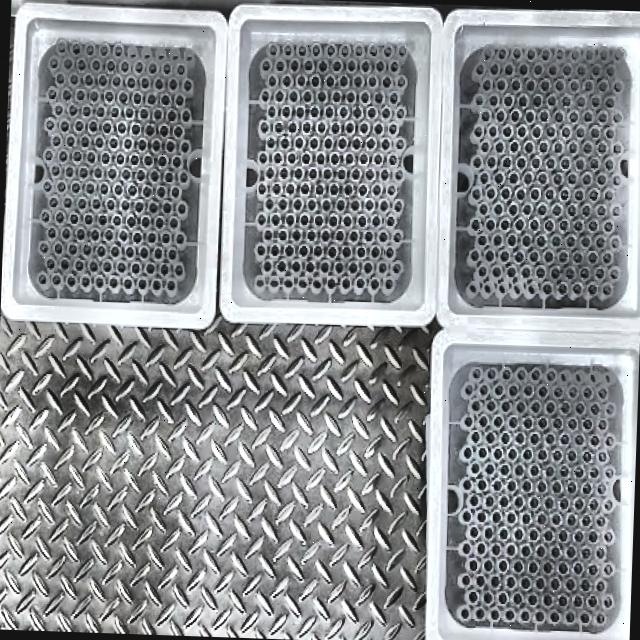vial: (381, 276, 395, 293), (602, 497, 616, 512), (488, 543, 502, 557), (461, 382, 474, 397), (466, 525, 479, 540), (549, 543, 561, 559), (355, 275, 366, 292), (469, 366, 482, 380), (460, 445, 473, 459), (512, 463, 525, 476), (90, 56, 103, 69), (604, 528, 615, 543), (596, 610, 607, 625), (124, 277, 134, 293), (543, 402, 555, 415), (552, 448, 564, 461), (256, 242, 268, 255), (311, 277, 323, 290), (469, 461, 480, 475), (498, 526, 509, 540), (603, 564, 614, 578), (282, 41, 293, 55), (387, 121, 398, 135), (369, 277, 380, 291), (139, 277, 148, 294), (514, 494, 524, 509), (461, 541, 471, 556), (460, 605, 470, 620), (485, 399, 497, 411), (520, 543, 532, 555), (571, 563, 583, 575), (486, 367, 497, 380), (523, 416, 534, 429), (477, 478, 488, 491), (476, 511, 487, 524), (491, 510, 502, 523), (541, 528, 554, 539), (165, 139, 176, 152), (73, 259, 84, 272), (256, 183, 267, 196), (304, 259, 315, 272), (494, 383, 504, 397), (552, 513, 562, 527), (475, 607, 485, 621), (566, 612, 576, 626), (394, 199, 404, 213), (341, 276, 351, 290), (491, 608, 500, 623), (587, 498, 598, 510), (483, 559, 494, 571), (80, 275, 91, 287), (275, 59, 286, 71), (366, 75, 377, 87), (366, 105, 377, 117), (395, 137, 406, 149), (391, 260, 402, 272), (298, 276, 309, 288), (478, 414, 488, 427), (463, 479, 473, 492), (484, 493, 494, 506), (476, 542, 486, 555), (596, 546, 606, 559), (550, 576, 560, 589), (535, 610, 545, 623), (105, 58, 115, 71), (102, 120, 112, 133), (135, 199, 145, 212), (176, 200, 186, 213), (141, 214, 151, 227), (159, 262, 169, 275), (174, 262, 184, 275), (383, 43, 393, 56), (367, 136, 377, 149), (335, 229, 345, 242), (393, 229, 403, 242), (348, 260, 358, 273), (149, 58, 157, 74), (271, 275, 280, 289), (479, 384, 490, 395), (508, 384, 519, 395), (485, 431, 496, 442), (552, 417, 563, 428), (467, 560, 478, 571), (603, 596, 614, 607), (175, 61, 186, 72), (367, 43, 378, 54), (330, 122, 341, 133), (358, 215, 369, 226), (256, 213, 267, 224), (502, 367, 512, 379), (538, 385, 548, 397), (568, 417, 578, 429), (500, 462, 510, 474), (530, 465, 540, 477), (575, 465, 585, 477), (537, 480, 547, 492), (499, 495, 509, 507), (529, 496, 539, 508), (545, 498, 555, 510), (559, 497, 569, 509), (514, 561, 524, 573), (490, 574, 500, 586), (88, 118, 98, 130), (86, 182, 96, 194), (312, 42, 322, 54), (396, 76, 406, 88), (353, 75, 363, 87), (374, 90, 384, 102), (394, 168, 404, 180), (371, 182, 381, 194), (335, 197, 345, 209), (371, 215, 381, 227), (370, 246, 380, 258), (341, 245, 351, 257), (336, 261, 346, 273), (501, 431, 510, 444), (507, 543, 516, 556), (476, 575, 485, 588), (137, 135, 146, 148), (154, 216, 163, 229), (119, 228, 128, 241), (37, 272, 46, 285), (354, 42, 363, 55), (397, 106, 406, 119), (311, 134, 320, 147), (352, 136, 361, 149), (284, 276, 293, 289), (342, 43, 350, 57), (524, 383, 534, 394), (544, 433, 555, 443), (478, 447, 488, 458), (485, 462, 495, 473), (491, 478, 502, 488), (469, 494, 480, 504), (574, 498, 584, 509), (567, 514, 577, 525), (596, 515, 607, 525), (573, 530, 583, 541), (483, 526, 493, 537), (596, 581, 606, 592), (520, 611, 530, 622), (161, 62, 171, 73), (119, 59, 129, 70), (166, 78, 177, 88), (118, 119, 129, 129), (111, 213, 121, 224), (71, 42, 81, 53), (344, 121, 354, 132), (357, 182, 367, 193), (379, 199, 389, 210), (363, 261, 373, 272), (256, 277, 266, 288), (583, 450, 592, 462), (598, 451, 607, 463), (559, 530, 568, 542), (581, 547, 590, 559), (499, 559, 508, 571), (567, 579, 576, 591), (543, 593, 552, 605), (484, 591, 493, 603), (74, 119, 83, 131), (159, 124, 168, 136), (181, 141, 190, 153), (121, 167, 130, 179), (137, 169, 146, 181), (143, 184, 152, 196), (114, 183, 123, 195), (57, 179, 66, 191), (41, 210, 50, 222), (104, 230, 113, 242), (167, 278, 176, 290), (291, 58, 300, 70), (319, 59, 328, 71), (326, 74, 335, 86), (289, 89, 298, 101), (374, 123, 383, 135), (359, 152, 368, 164), (258, 150, 267, 162), (265, 167, 274, 179), (281, 166, 290, 178), (324, 167, 333, 179), (388, 184, 397, 196), (301, 181, 310, 193), (342, 214, 351, 226), (279, 228, 288, 240), (285, 243, 294, 255), (307, 229, 316, 241), (350, 229, 359, 241), (379, 230, 388, 242), (378, 261, 387, 273), (561, 401, 569, 414), (507, 609, 515, 622), (365, 228, 373, 241), (531, 368, 541, 378), (531, 401, 541, 411), (516, 401, 526, 411), (493, 415, 503, 425), (471, 430, 481, 440), (575, 434, 585, 444), (583, 418, 593, 428), (530, 432, 540, 442), (522, 448, 532, 458), (589, 467, 599, 477), (582, 482, 592, 492), (596, 484, 606, 494), (567, 481, 577, 491), (463, 509, 473, 519), (566, 545, 576, 555), (528, 562, 538, 572), (581, 580, 591, 590), (51, 133, 61, 143), (86, 151, 96, 161), (110, 245, 120, 255), (152, 280, 162, 290), (279, 199, 289, 209), (327, 246, 337, 256), (547, 369, 556, 380), (517, 368, 526, 379), (508, 417, 517, 428), (507, 512, 516, 523), (522, 511, 531, 522), (537, 513, 546, 524), (515, 527, 524, 538), (589, 564, 598, 575), (559, 563, 568, 574), (536, 577, 545, 588), (558, 596, 567, 607), (499, 592, 508, 603), (581, 613, 590, 624), (134, 61, 143, 72), (181, 110, 190, 121), (66, 134, 75, 145), (174, 124, 183, 135), (150, 170, 159, 181), (128, 184, 137, 195), (49, 196, 58, 207), (141, 245, 150, 256), (126, 246, 135, 257), (52, 242, 61, 253), (52, 273, 61, 284), (145, 263, 154, 274), (334, 60, 343, 71), (312, 73, 321, 84), (275, 89, 284, 100), (382, 106, 391, 117), (311, 105, 320, 116), (302, 121, 311, 132), (359, 123, 368, 134), (266, 136, 275, 147), (381, 137, 390, 148), (373, 153, 382, 164), (302, 152, 311, 163), (286, 214, 295, 225), (356, 246, 365, 257), (300, 244, 309, 255), (292, 260, 301, 271), (522, 576, 530, 588), (551, 613, 559, 625), (125, 106, 133, 118), (123, 137, 131, 149), (101, 151, 109, 163), (176, 231, 184, 243), (39, 241, 47, 253), (298, 43, 306, 55), (260, 88, 268, 100), (332, 89, 340, 101), (347, 89, 355, 101), (360, 88, 368, 100), (289, 120, 297, 132), (340, 135, 348, 147), (317, 152, 325, 164), (273, 182, 281, 194), (279, 259, 287, 271), (502, 398, 511, 408), (465, 415, 474, 425), (560, 433, 569, 443), (508, 448, 517, 458), (493, 447, 502, 457), (538, 449, 547, 459), (522, 480, 531, 490), (589, 531, 598, 541), (543, 562, 552, 572), (461, 574, 470, 584), (588, 597, 597, 607), (528, 595, 537, 605), (469, 591, 478, 601), (167, 109, 177, 118), (141, 107, 150, 117), (81, 136, 90, 146), (145, 123, 154, 133), (144, 155, 153, 165), (66, 165, 75, 175), (80, 165, 89, 175), (109, 168, 118, 178), (165, 172, 174, 182), (157, 186, 166, 196), (108, 198, 117, 208), (163, 201, 172, 211), (171, 216, 180, 226), (70, 213, 79, 223), (56, 209, 65, 219), (47, 227, 57, 236), (133, 233, 142, 243), (60, 258, 69, 268), (132, 261, 141, 271), (346, 60, 355, 70), (376, 61, 385, 71), (390, 61, 399, 71), (383, 76, 392, 86), (260, 119, 269, 129), (274, 121, 283, 131), (392, 152, 401, 162), (329, 153, 338, 163), (286, 182, 295, 192), (264, 198, 273, 208), (315, 215, 324, 225), (183, 79, 191, 90), (141, 76, 149, 87), (161, 93, 169, 104), (112, 106, 120, 117), (109, 137, 117, 148), (79, 197, 87, 208), (127, 215, 135, 226), (98, 214, 106, 225), (62, 226, 70, 237), (399, 44, 407, 55), (269, 43, 277, 54), (340, 73, 348, 84), (297, 75, 305, 86), (268, 74, 276, 85), (296, 106, 304, 117), (267, 105, 275, 116), (380, 168, 388, 179), (294, 198, 302, 209), (271, 243, 279, 254), (328, 276, 336, 287), (176, 93, 183, 105), (163, 232, 170, 244), (69, 242, 76, 254), (284, 74, 291, 86), (324, 136, 331, 148), (390, 214, 397, 226), (546, 465, 555, 474), (93, 168, 102, 177), (361, 61, 370, 70), (539, 418, 547, 428), (568, 450, 576, 460), (561, 464, 569, 474), (552, 481, 562, 489), (508, 481, 516, 491), (582, 514, 590, 524), (507, 577, 515, 587), (514, 592, 522, 602), (154, 78, 162, 88), (127, 77, 135, 87), (153, 109, 161, 119), (159, 155, 167, 165), (130, 154, 138, 164), (73, 150, 81, 160), (61, 148, 69, 158), (44, 149, 52, 159), (72, 182, 80, 192), (121, 200, 129, 210), (149, 232, 157, 242), (97, 245, 105, 255), (46, 258, 54, 268), (104, 260, 112, 270), (328, 43, 336, 53), (318, 121, 326, 131), (288, 151, 296, 161), (276, 153, 284, 163), (295, 168, 303, 178), (310, 167, 318, 177), (366, 167, 374, 177), (331, 214, 339, 224), (301, 214, 309, 224), (273, 213, 281, 223), (264, 229, 272, 239), (293, 229, 301, 239), (314, 246, 322, 256), (263, 260, 271, 270), (180, 171, 187, 182), (149, 201, 156, 212), (85, 212, 92, 223), (111, 277, 118, 288), (303, 90, 310, 101), (339, 168, 346, 179), (316, 182, 323, 193), (322, 230, 329, 241), (321, 261, 328, 272), (530, 527, 538, 536), (536, 546, 544, 555), (96, 105, 104, 114), (60, 119, 69, 127), (116, 154, 124, 163), (51, 165, 59, 174), (96, 276, 104, 285), (305, 59, 313, 68), (351, 200, 359, 209), (517, 432, 524, 442), (95, 136, 102, 146), (132, 123, 139, 133), (172, 187, 179, 197), (44, 179, 51, 189), (64, 198, 71, 208), (170, 249, 177, 259), (155, 248, 162, 258), (69, 275, 76, 285), (90, 261, 97, 271), (318, 90, 325, 100), (392, 91, 399, 101), (340, 106, 347, 116), (325, 107, 332, 117), (346, 153, 353, 163), (323, 200, 330, 210), (367, 197, 374, 207), (471, 401, 482, 407), (152, 140, 160, 148), (92, 199, 100, 207), (77, 228, 85, 236), (134, 92, 141, 101), (173, 156, 180, 165), (355, 106, 362, 115), (310, 196, 317, 205), (263, 59, 269, 69), (331, 182, 337, 192), (82, 244, 90, 251), (284, 104, 291, 112), (282, 136, 289, 144), (296, 137, 303, 145), (346, 183, 353, 191), (93, 228, 98, 239), (577, 596, 583, 605), (150, 91, 156, 100), (101, 183, 107, 192), (118, 262, 124, 271), (390, 247, 395, 257), (354, 169, 359, 178)
